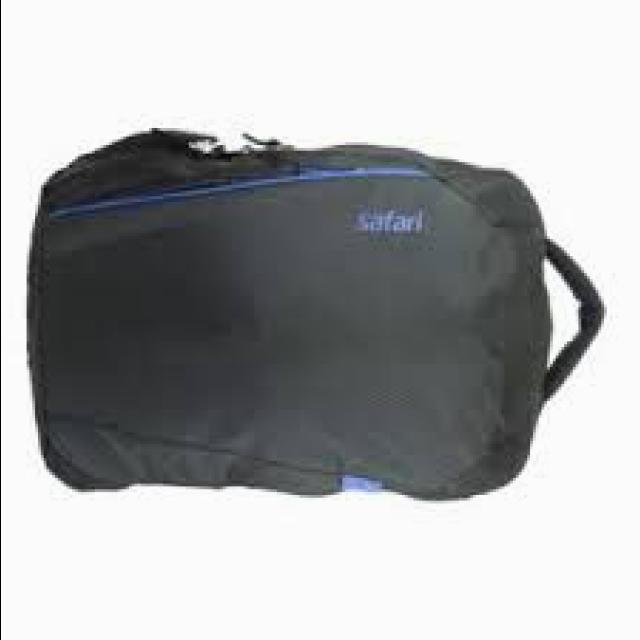backpack: (27, 126, 610, 502)
